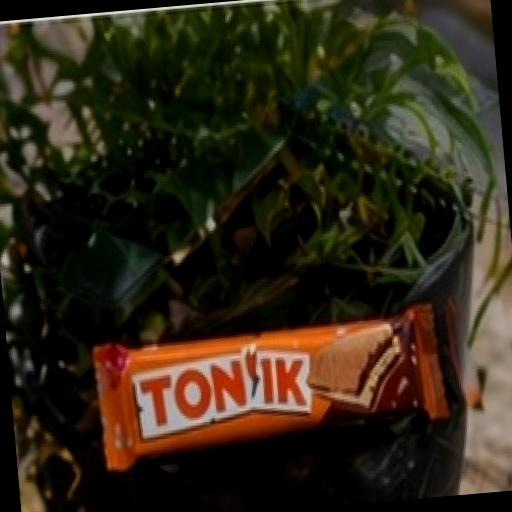tonik: (20, 186, 511, 512)
